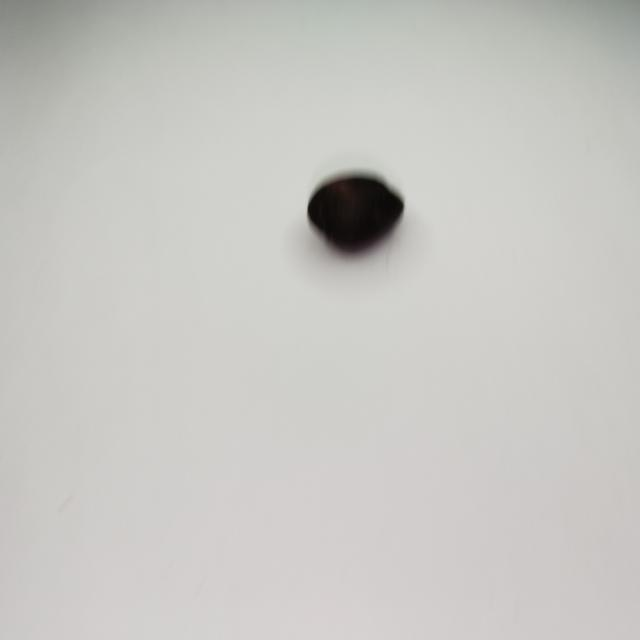Danado: (307, 174, 403, 252), (311, 240, 319, 250)
